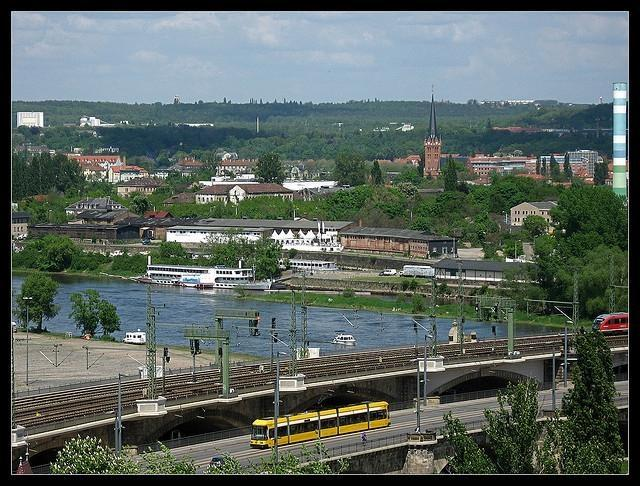car: (378, 270, 392, 276), (212, 458, 222, 466), (142, 238, 151, 244)
truck: (398, 264, 436, 278), (122, 332, 146, 345)
